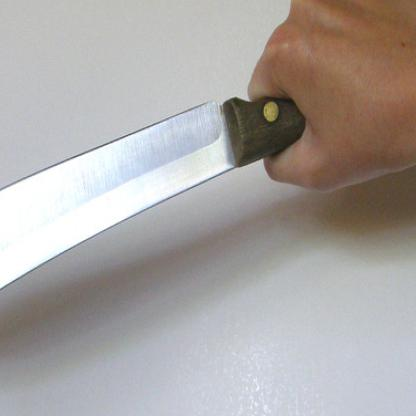knife: (0, 0, 347, 359)
